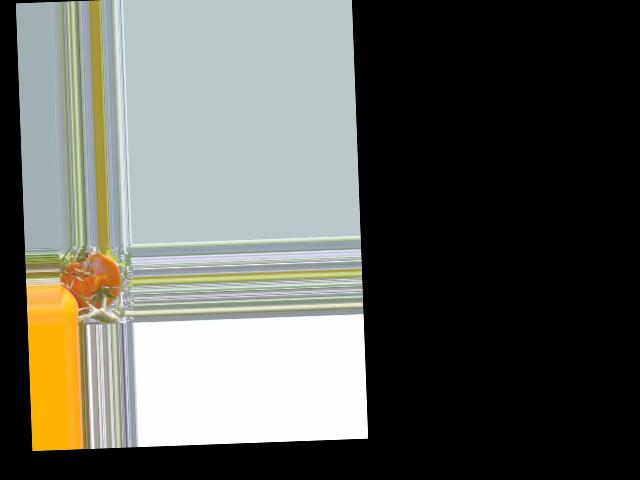tomato: (59, 251, 122, 310)
